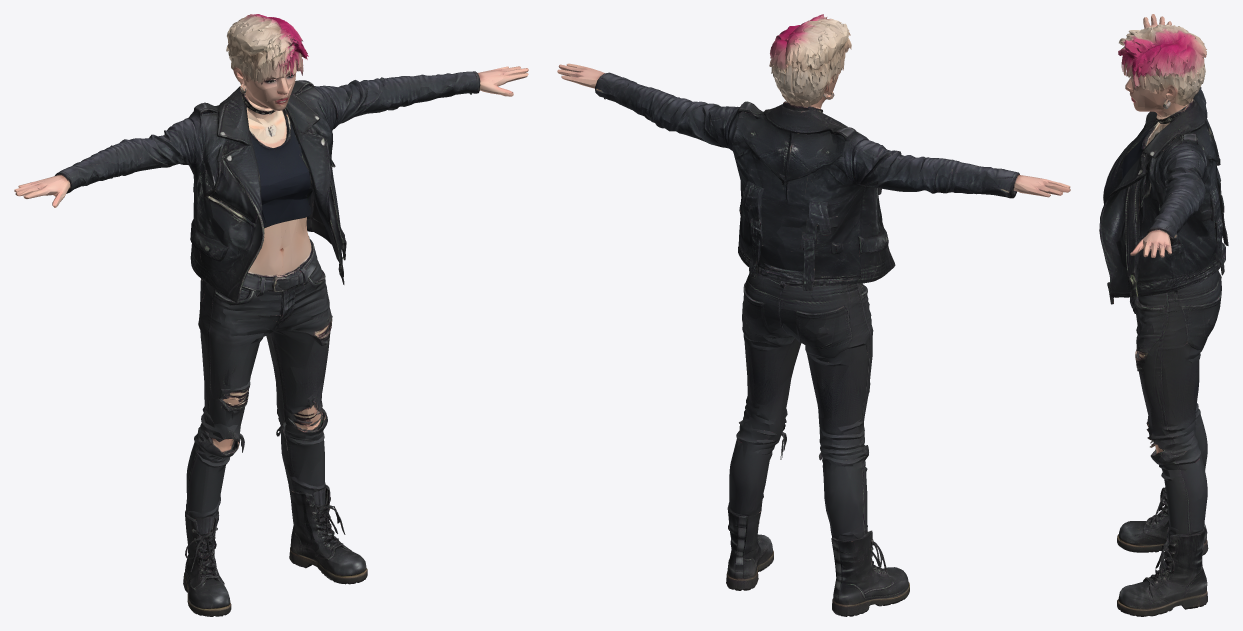
The model's file is ped_punk.glb.
The picture shows the model from 3 angles, left to right: view 1: azimuth 30°, elevation 25°; view 2: azimuth 150°, elevation 25°; view 3: azimuth 270°, elevation 25°; orthographic projection. The views are drawn at different scales.
Visible parts, largest first — view 1: Mesh_0; view 2: Mesh_0; view 3: Mesh_0.
Part boxes in pixels (left/top/right/bottom): Mesh_0: left=14, top=14, right=528, bottom=616; Mesh_0: left=557, top=14, right=1070, bottom=616; Mesh_0: left=1099, top=14, right=1228, bottom=616.
Size of the model in its own units: 1.8 by 1.9 by 0.4061.
1 material, 1 textured.
